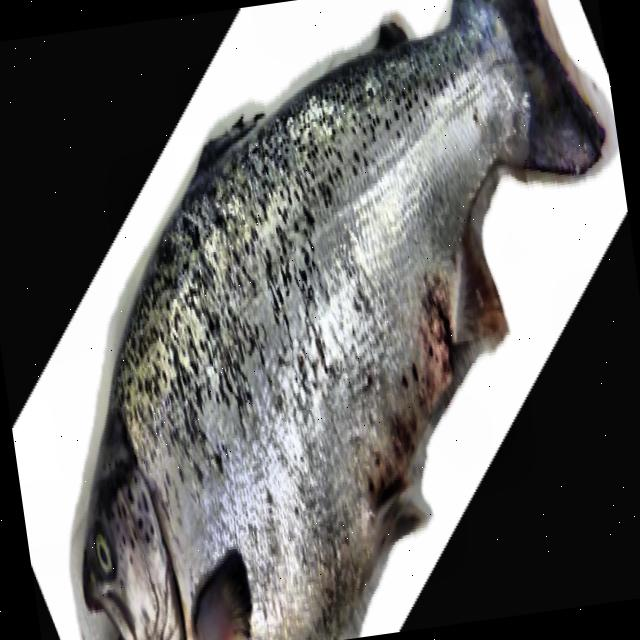mild_red: (117, 24, 522, 640)
